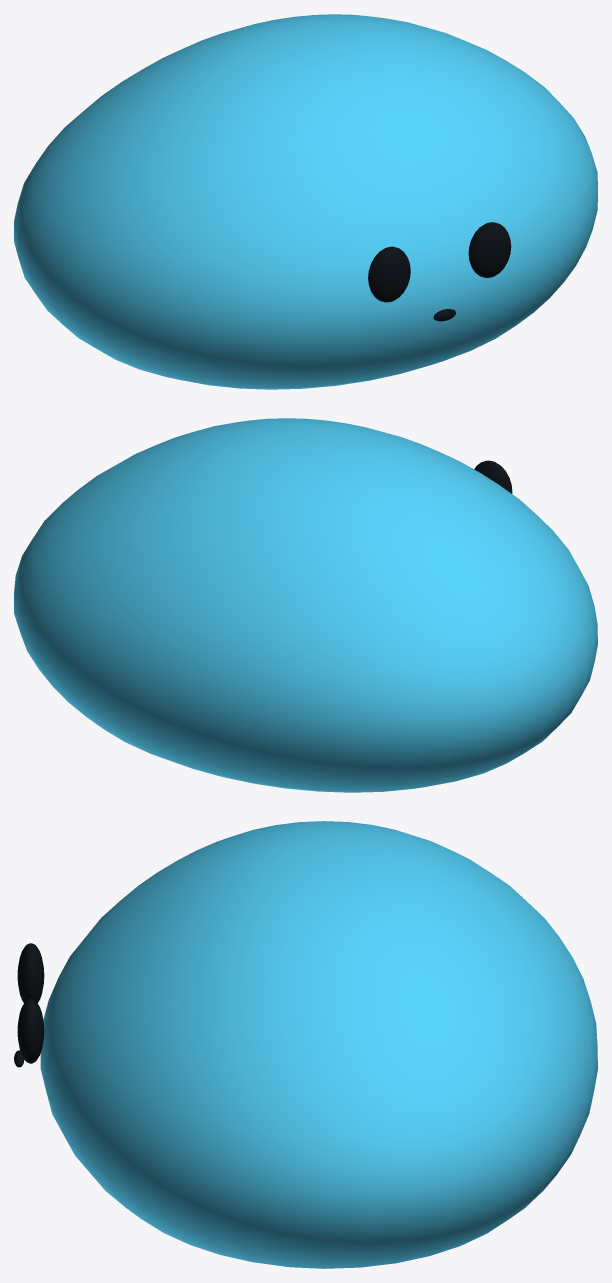
File: plain-slime.glb
3 views of the same model, one above another, from view 1: azimuth 30°, elevation 25°; view 2: azimuth 150°, elevation 25°; view 3: azimuth 270°, elevation 25° (orthographic). The views are drawn at different scales.
Parts seen in each view (by area): view 1: Body, Eye_L, Eye_R; view 2: Body, Eye_L; view 3: Body, Eye_R, Eye_L.
Boxes of the visible parts, box(x1,y1,x2,y2) form: Body: box(14, 14, 597, 389); Eye_L: box(368, 246, 410, 302); Eye_R: box(468, 222, 511, 277); Body: box(14, 418, 597, 792); Eye_L: box(474, 460, 512, 493); Body: box(40, 821, 597, 1268); Eye_R: box(17, 998, 44, 1063); Eye_L: box(17, 943, 44, 1002).
Bounding box in the file's own units: 2.36 × 1.18 × 2.
